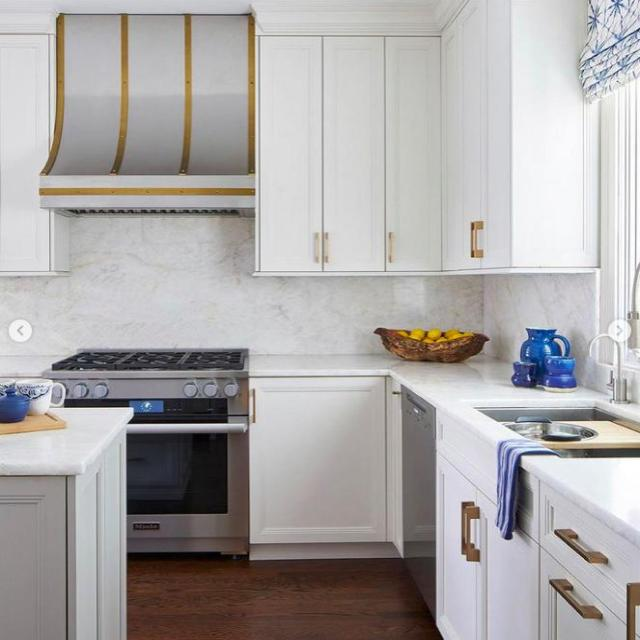dishwasher: (399, 381, 435, 620)
